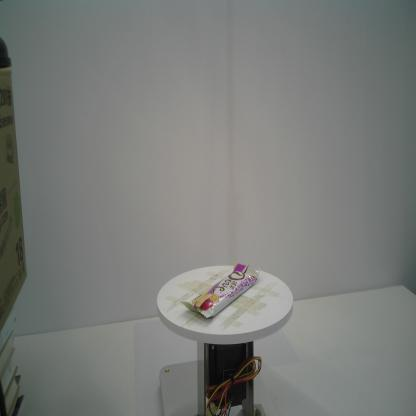Chocolate: (180, 262, 260, 318)
